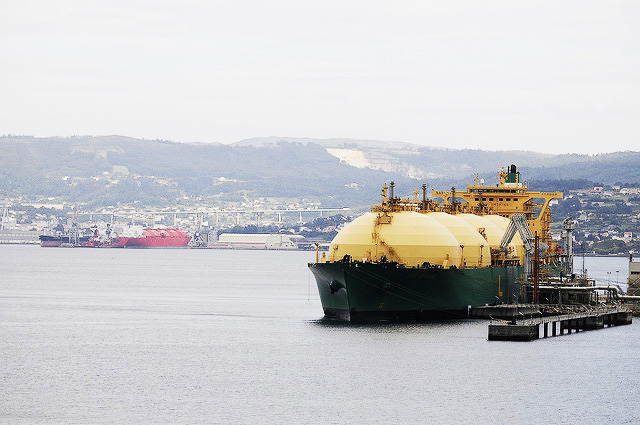LNG_ship: (310, 167, 571, 316), (113, 224, 193, 247)
